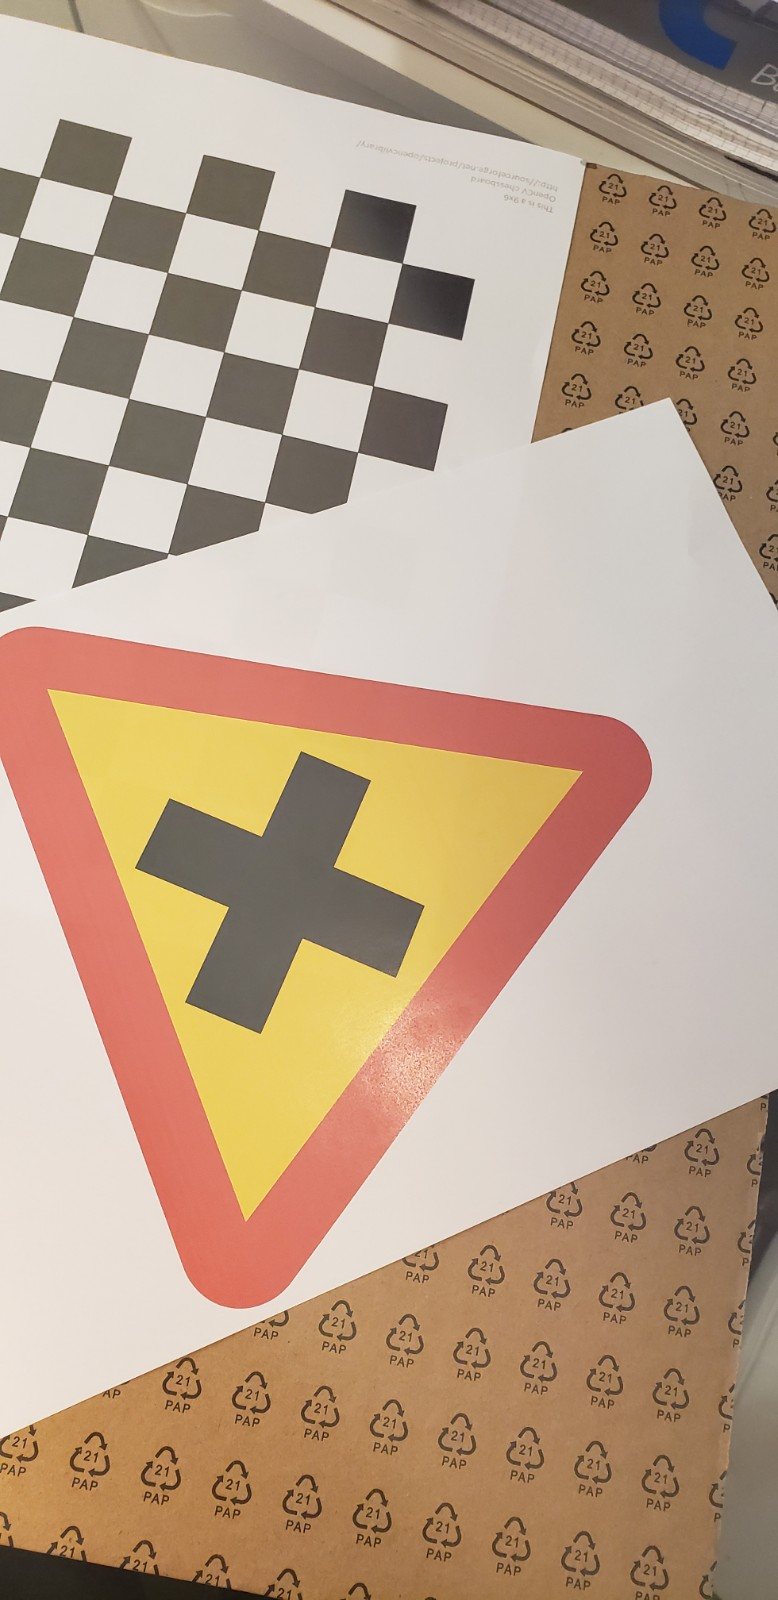junction: (9, 573, 708, 1354)
